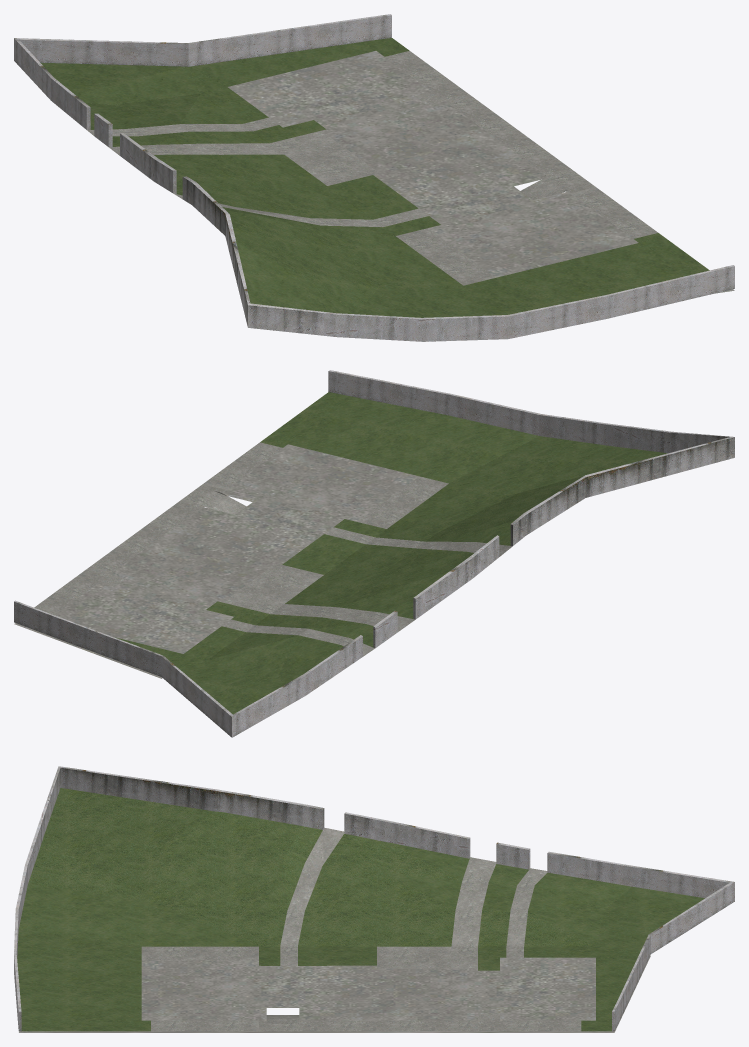
Rendered from lastbit_gnd02_sfs.obj.
3 renders of one model, top to bottom at view 1: azimuth 30°, elevation 25°; view 2: azimuth 150°, elevation 25°; view 3: azimuth 270°, elevation 25°, orthographic. The views are drawn at different scales.
Visible parts, largest first — view 1: lastbit_GND02_SFS; view 2: lastbit_GND02_SFS; view 3: lastbit_GND02_SFS.
Boxes of the visible parts, x1,y1,x2,y2 form: lastbit_GND02_SFS: (14, 14, 734, 341); lastbit_GND02_SFS: (14, 370, 734, 737); lastbit_GND02_SFS: (14, 766, 734, 1032).
Bounding box in the file's own units: 39.4 × 7.85 × 61.24.
Materials: 3 (3 with a texture image).
